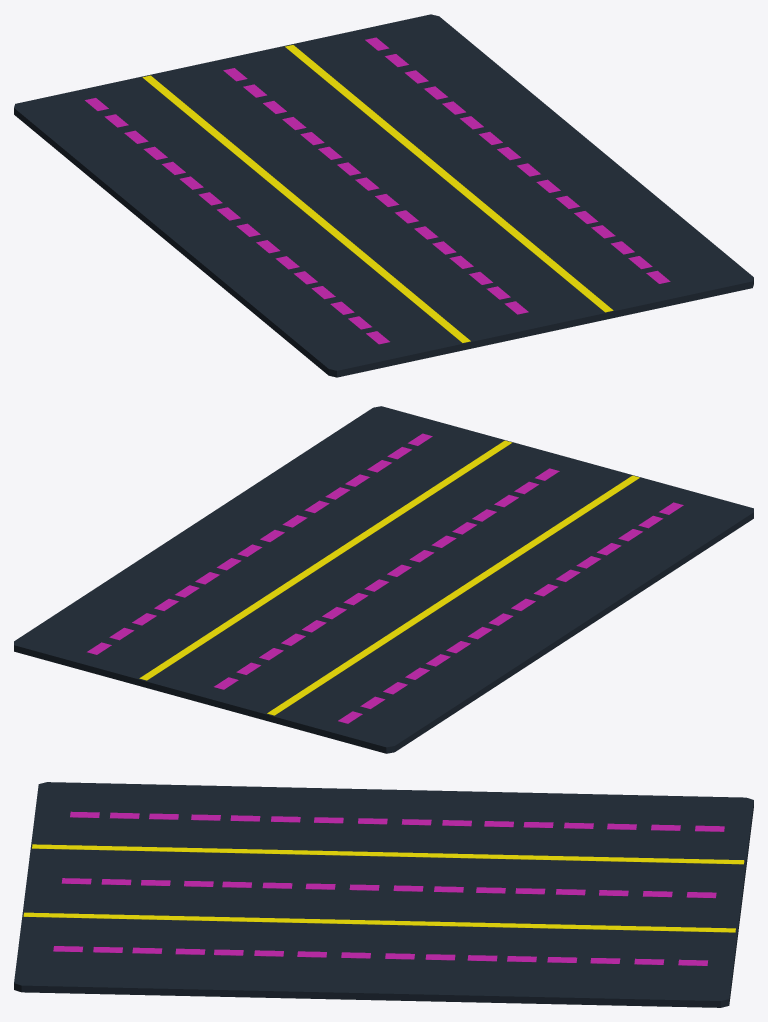
The model's file is City Street.fbx.
3 views of the same model, one above another, from view 1: azimuth 30°, elevation 25°; view 2: azimuth 150°, elevation 25°; view 3: azimuth 270°, elevation 25° (orthographic). The views are drawn at different scales.
Visible parts, largest first — view 1: Plane; view 2: Plane; view 3: Plane.
Part boxes in pixels (<box>): Plane: <box>14,14,753,377</box>; Plane: <box>14,406,753,753</box>; Plane: <box>14,782,753,1007</box>.
Size of the model in its own units: 2110 by 34.35 by 3014.
